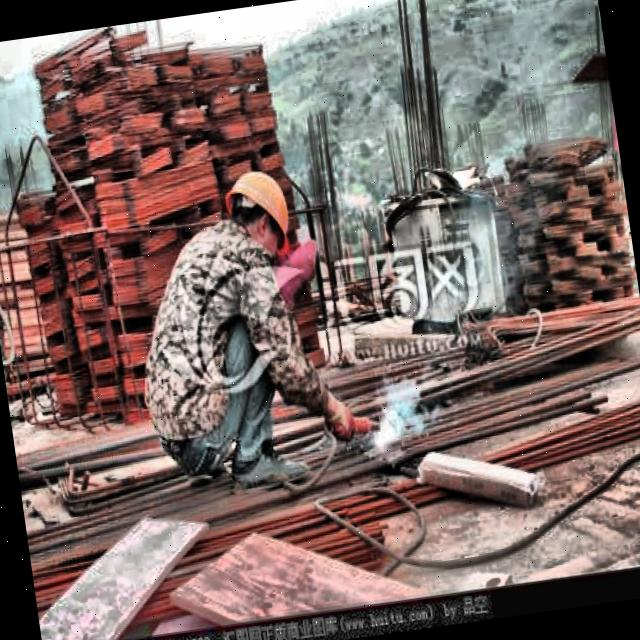helmet: (212, 158, 304, 268)
